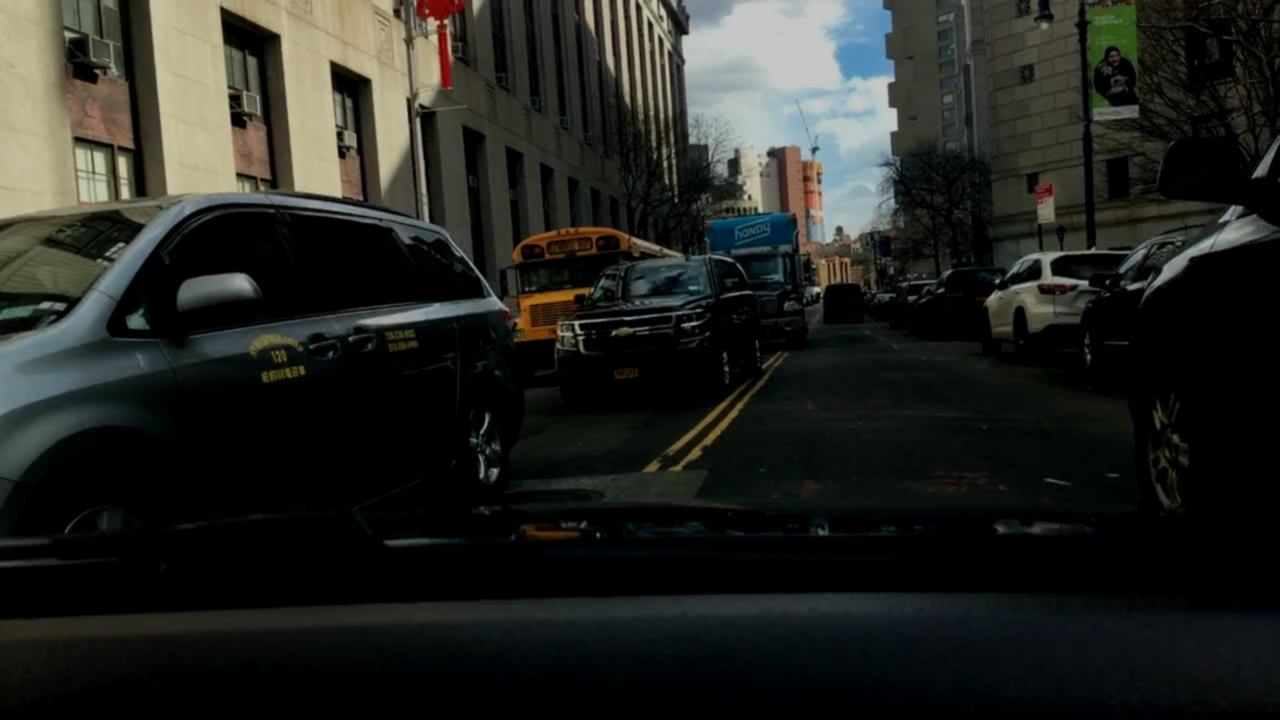chevrolet: (604, 322, 642, 343)
